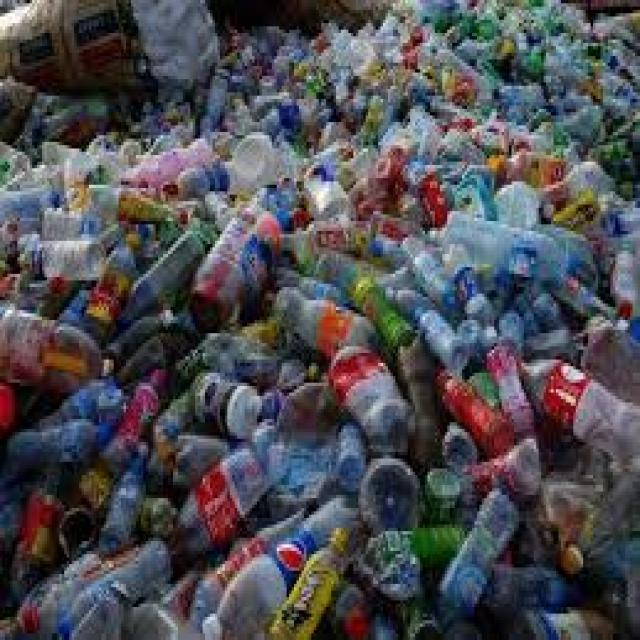plastic: (0, 86, 638, 637), (212, 0, 637, 115), (198, 488, 358, 637), (173, 495, 314, 637), (519, 422, 637, 561), (173, 416, 282, 551), (514, 350, 638, 455), (433, 482, 517, 624), (188, 198, 279, 327), (57, 534, 170, 637), (148, 367, 247, 479), (326, 337, 415, 456), (0, 297, 111, 392), (264, 525, 351, 637), (440, 205, 568, 281), (556, 462, 638, 571), (8, 459, 70, 601), (267, 281, 378, 360), (396, 515, 465, 637), (260, 376, 329, 488), (15, 548, 101, 637), (121, 554, 213, 637), (128, 0, 215, 86), (430, 363, 511, 455), (482, 558, 578, 630), (121, 224, 200, 310), (551, 36, 638, 112), (99, 366, 161, 465), (395, 327, 440, 459), (371, 96, 440, 182), (81, 231, 141, 327), (346, 264, 413, 346), (185, 327, 277, 386), (455, 432, 541, 495), (576, 317, 638, 403), (183, 366, 257, 436), (351, 525, 417, 601), (356, 449, 418, 528), (102, 432, 149, 535), (5, 413, 109, 459), (307, 23, 376, 92), (124, 132, 208, 188), (0, 458, 54, 544), (225, 79, 306, 135), (485, 337, 532, 432), (549, 274, 628, 330), (312, 241, 386, 300), (269, 215, 351, 268), (84, 182, 185, 225), (13, 231, 107, 277), (87, 182, 186, 225), (32, 370, 121, 416), (534, 221, 598, 284), (506, 600, 613, 637), (598, 541, 638, 637), (161, 426, 225, 485), (398, 228, 452, 297), (35, 92, 109, 142), (101, 300, 173, 350), (297, 155, 354, 218), (539, 155, 610, 205), (408, 300, 462, 363), (396, 162, 453, 221), (363, 205, 425, 258), (432, 43, 492, 96), (492, 175, 551, 228), (497, 69, 549, 129), (321, 571, 366, 637), (536, 43, 586, 102), (255, 99, 336, 135), (581, 231, 638, 280), (116, 333, 185, 373), (0, 271, 64, 314), (54, 280, 99, 340), (55, 495, 102, 551), (161, 158, 232, 195), (509, 280, 561, 330), (331, 412, 366, 485), (606, 241, 638, 320), (359, 3, 401, 63), (598, 30, 638, 92), (230, 129, 272, 188), (37, 198, 111, 231), (326, 20, 378, 66), (220, 17, 264, 70), (67, 459, 111, 512), (356, 69, 393, 132), (418, 86, 472, 129), (556, 96, 603, 145), (346, 169, 393, 215), (524, 320, 576, 360), (418, 465, 457, 518), (435, 413, 474, 466), (450, 165, 492, 214), (502, 115, 536, 175), (0, 181, 59, 214), (5, 162, 59, 198), (506, 0, 560, 36), (274, 347, 319, 390), (198, 63, 227, 129), (588, 6, 638, 43), (0, 211, 40, 257), (371, 142, 408, 191), (596, 116, 638, 159), (260, 178, 302, 221), (440, 231, 472, 287), (430, 129, 484, 162), (57, 149, 94, 195), (549, 188, 596, 224), (418, 27, 455, 70), (304, 142, 348, 178), (87, 129, 121, 175), (418, 0, 465, 33), (141, 492, 173, 538), (388, 66, 420, 112), (270, 136, 302, 182), (603, 145, 637, 188), (452, 30, 492, 66), (331, 73, 363, 116), (381, 284, 428, 313), (401, 13, 428, 63), (455, 313, 482, 363), (467, 366, 499, 406), (339, 142, 371, 181), (551, 0, 585, 36), (467, 112, 504, 145), (495, 307, 522, 350), (126, 106, 166, 135), (0, 139, 25, 185), (314, 115, 356, 142), (275, 23, 307, 56), (309, 13, 341, 46), (440, 66, 472, 99), (460, 0, 504, 23), (10, 600, 37, 637), (512, 40, 546, 69), (438, 13, 470, 43), (37, 135, 72, 162), (148, 82, 183, 109), (0, 376, 17, 425), (344, 600, 366, 637), (559, 538, 583, 571), (208, 129, 235, 158), (250, 23, 284, 46), (242, 320, 272, 346), (490, 36, 517, 63), (611, 201, 638, 228), (166, 93, 195, 116), (198, 607, 220, 637), (188, 76, 205, 112), (117, 135, 139, 162), (57, 610, 79, 637), (299, 350, 321, 376), (616, 175, 638, 198), (89, 416, 111, 439), (270, 53, 285, 86), (215, 40, 232, 69), (610, 310, 628, 337), (326, 522, 346, 545), (0, 263, 17, 290), (232, 69, 252, 89), (255, 66, 275, 86), (287, 60, 307, 80), (260, 383, 275, 409), (148, 363, 166, 383), (536, 129, 554, 149), (158, 175, 173, 198), (630, 310, 638, 340), (482, 317, 494, 337), (615, 297, 633, 310), (131, 439, 148, 452), (124, 228, 139, 241), (141, 96, 153, 109), (396, 0, 411, 10)
